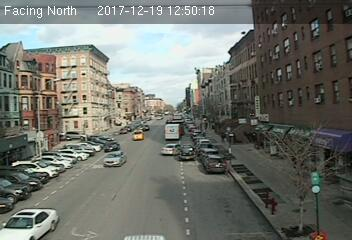car: (1, 206, 60, 240), (204, 153, 227, 174), (102, 151, 127, 167), (178, 144, 196, 162), (161, 142, 181, 156), (102, 140, 119, 151), (132, 128, 144, 142)
truck: (165, 123, 180, 140)
